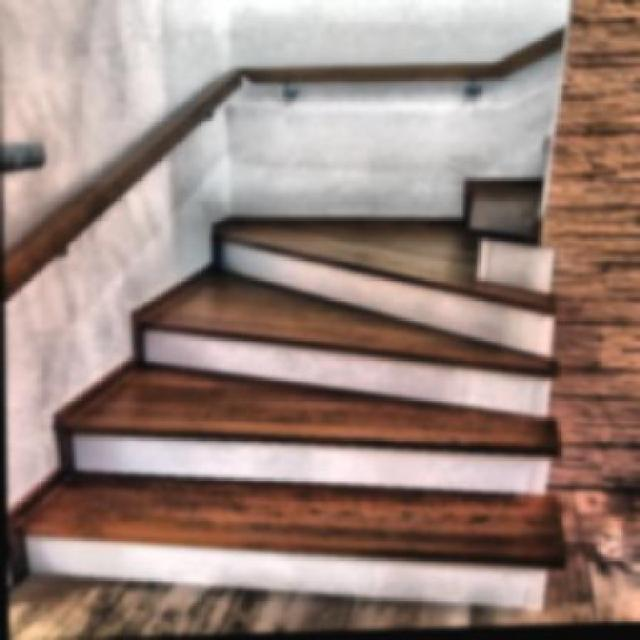stair: (29, 270, 565, 604)
